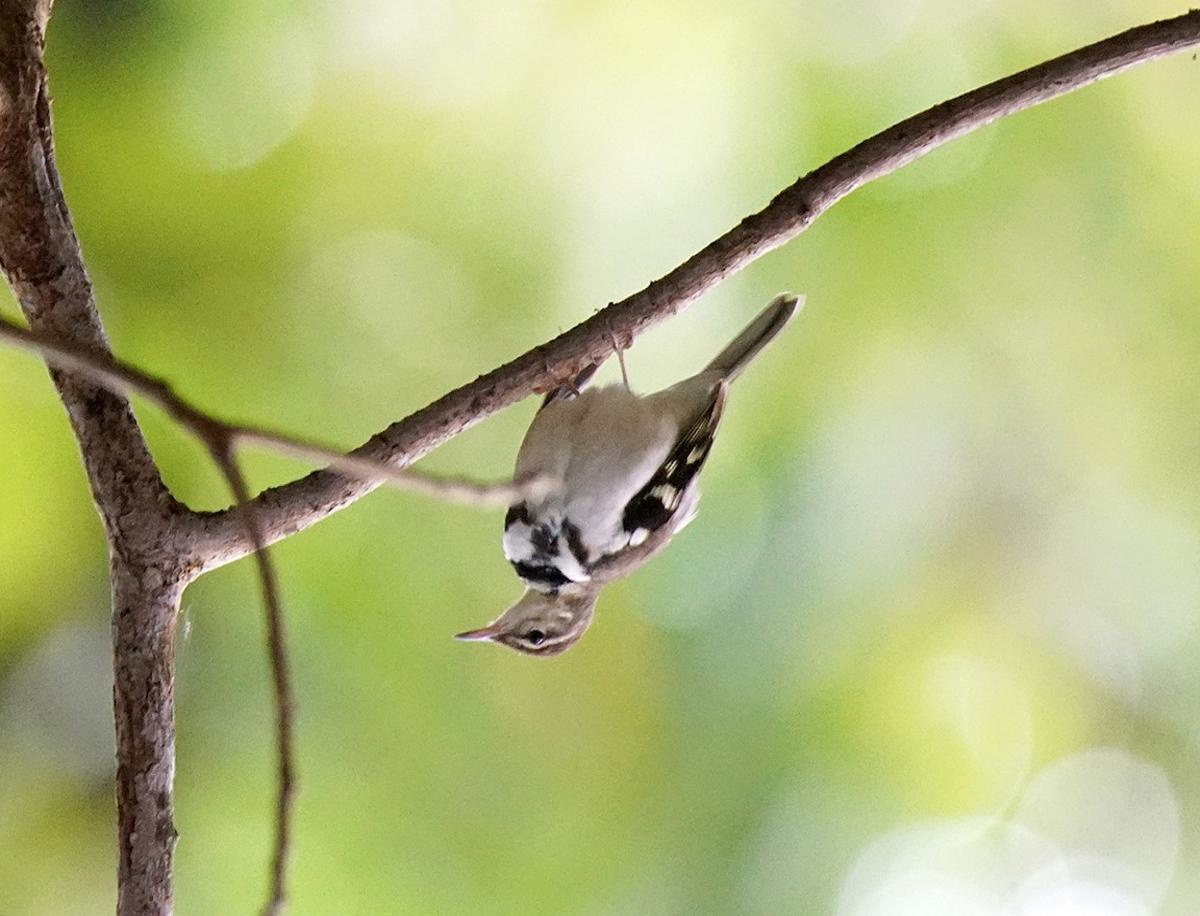wagtail: (459, 322, 787, 666)
